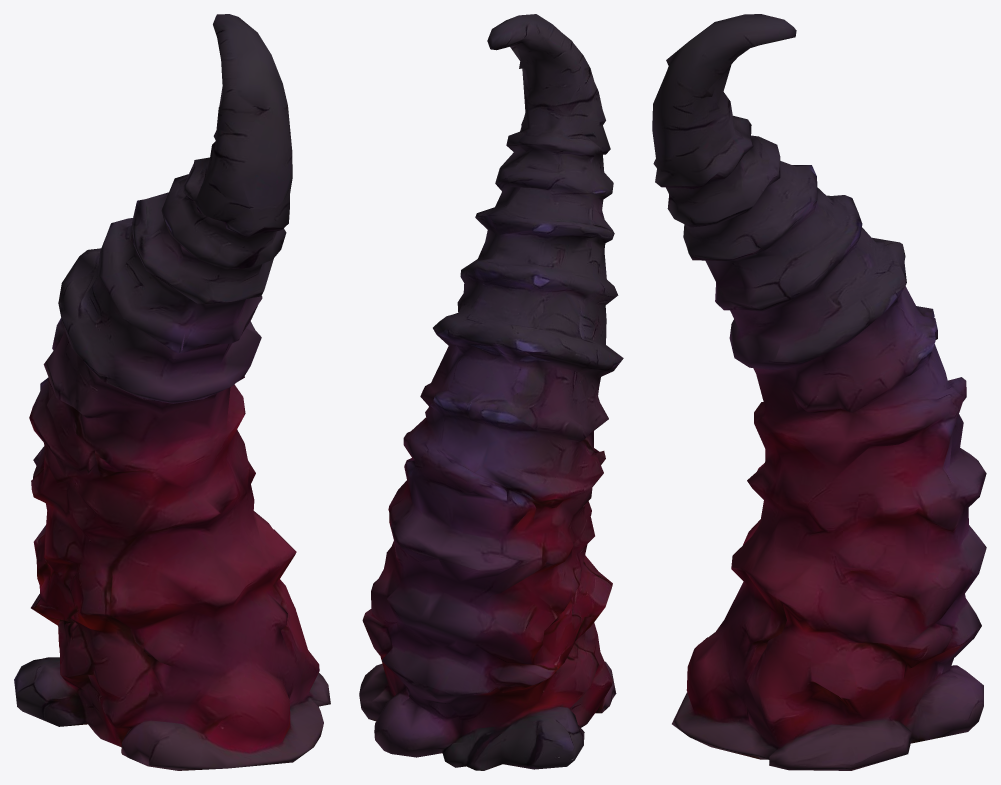
The model's file is lot-horn.glb.
3 views of the same model, side by side, from view 1: azimuth 30°, elevation 25°; view 2: azimuth 150°, elevation 25°; view 3: azimuth 270°, elevation 25° (orthographic). The views are drawn at different scales.
Parts seen in each view (by area): view 1: tripo_node_0d60ed2d-f8b8-4db5-b197-721a36172ccb; view 2: tripo_node_0d60ed2d-f8b8-4db5-b197-721a36172ccb; view 3: tripo_node_0d60ed2d-f8b8-4db5-b197-721a36172ccb.
Boxes of the visible parts, left/top/right/bottom form: tripo_node_0d60ed2d-f8b8-4db5-b197-721a36172ccb: left=14, top=14, right=330, bottom=770; tripo_node_0d60ed2d-f8b8-4db5-b197-721a36172ccb: left=359, top=14, right=623, bottom=770; tripo_node_0d60ed2d-f8b8-4db5-b197-721a36172ccb: left=652, top=14, right=986, bottom=770.
Size of the model in its own units: 0.3823 by 0.9988 by 0.4333.
Materials: 1 (1 with a texture image).
